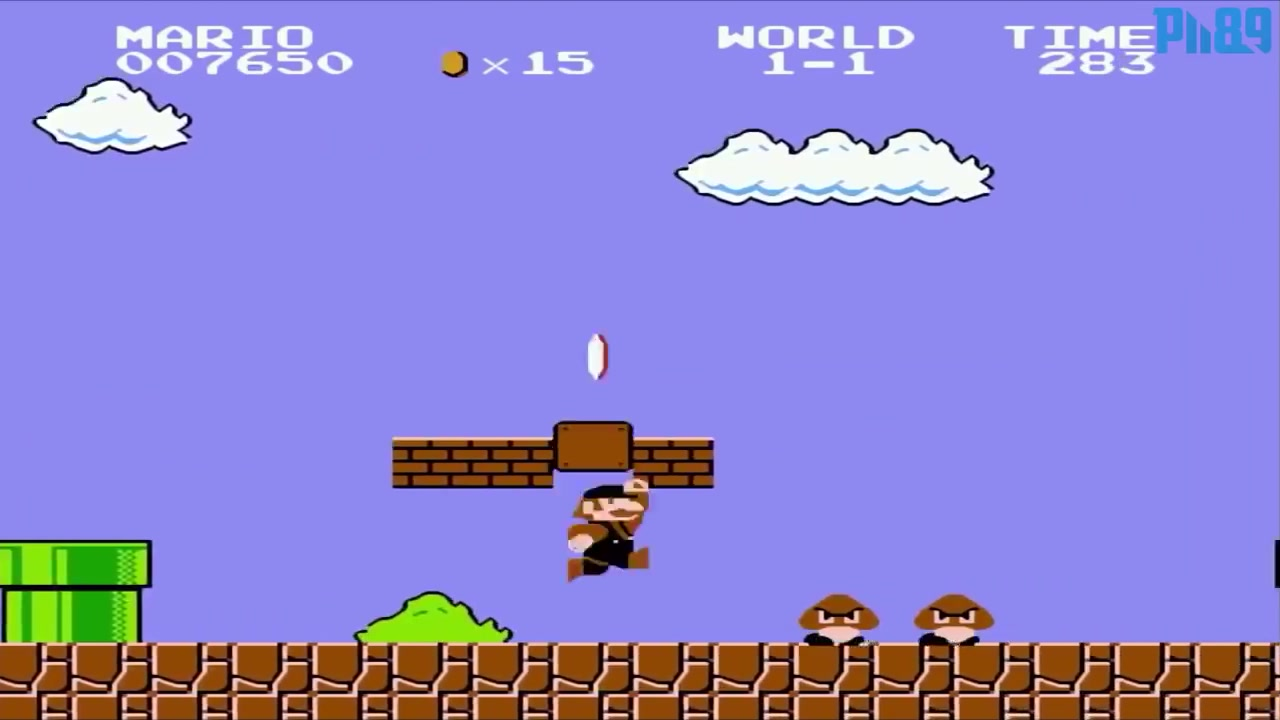mario: (562, 477, 662, 590)
